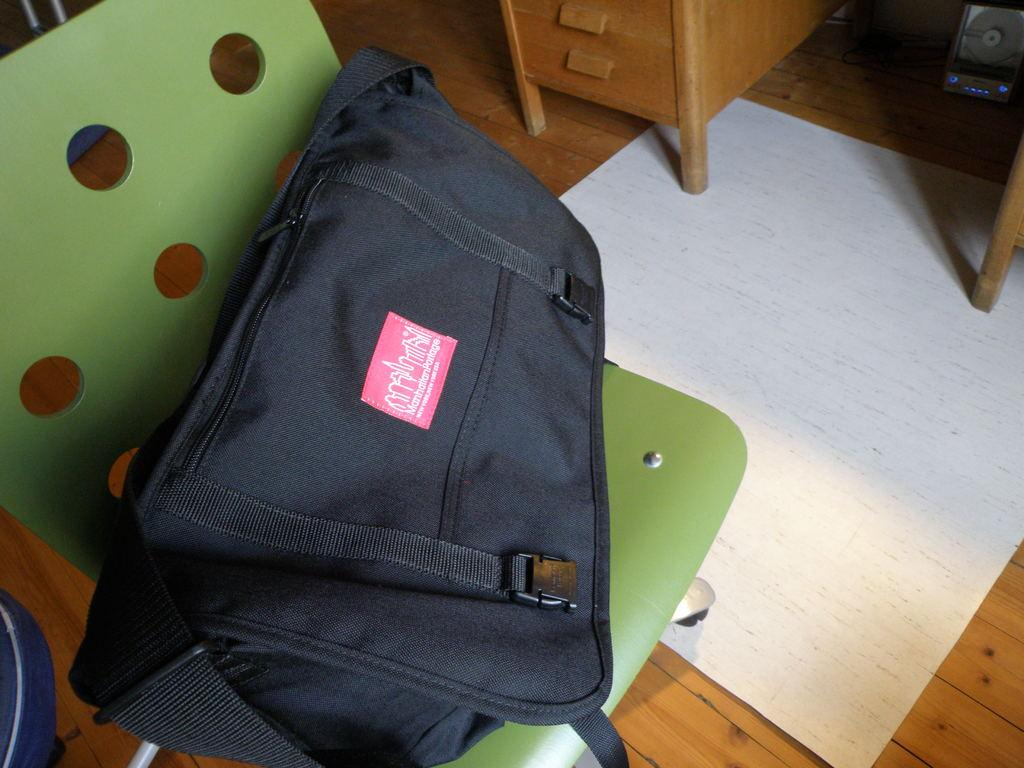cabinet_door: (534, 47, 680, 95), (523, 0, 647, 32)
handle: (563, 44, 616, 81), (558, 3, 612, 32)
